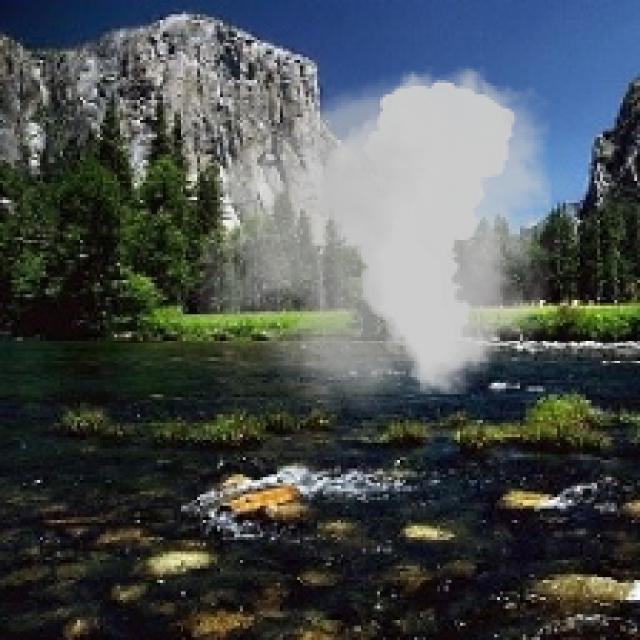Smoke: (174, 57, 583, 417)
